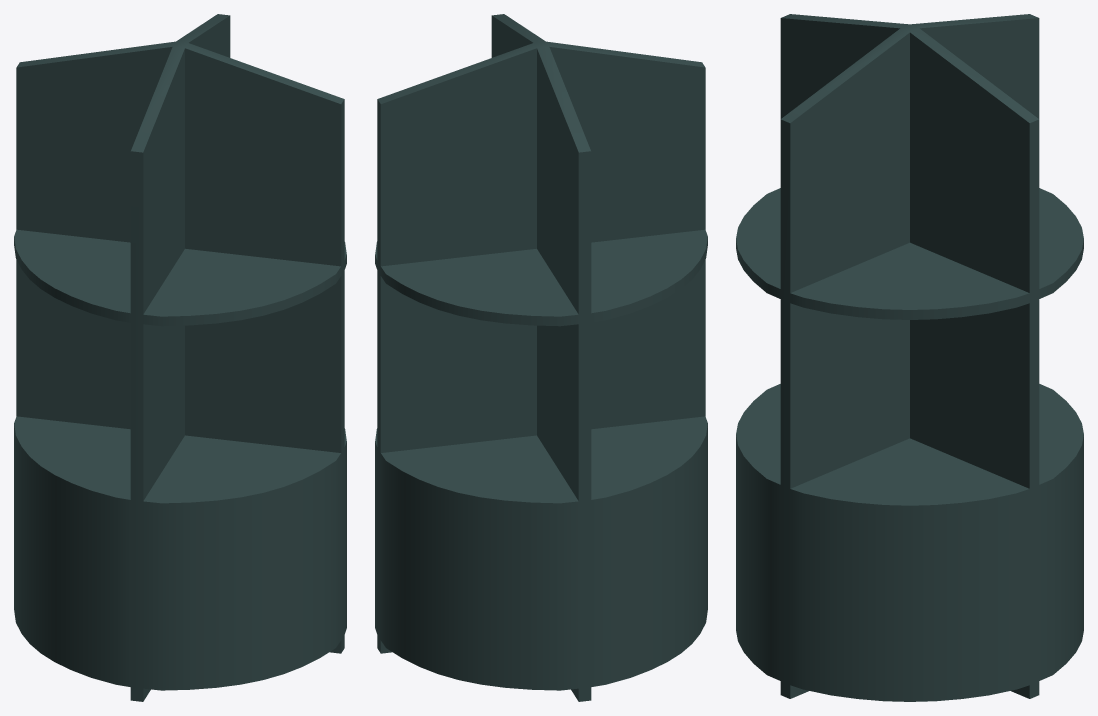
File: Estante 6.fbx
3 renders of one model, left to right at view 1: azimuth 30°, elevation 25°; view 2: azimuth 150°, elevation 25°; view 3: azimuth 270°, elevation 25°, orthographic. The views are drawn at different scales.
Parts seen in each view (by area): view 1: Cylinder011; view 2: Cylinder011; view 3: Cylinder011.
Part boxes in pixels (left/top/right/bottom): Cylinder011: left=14, top=14, right=346, bottom=701; Cylinder011: left=375, top=14, right=707, bottom=701; Cylinder011: left=736, top=14, right=1083, bottom=701.
Size of the model in its own units: 15.09 by 30.33 by 15.52.
